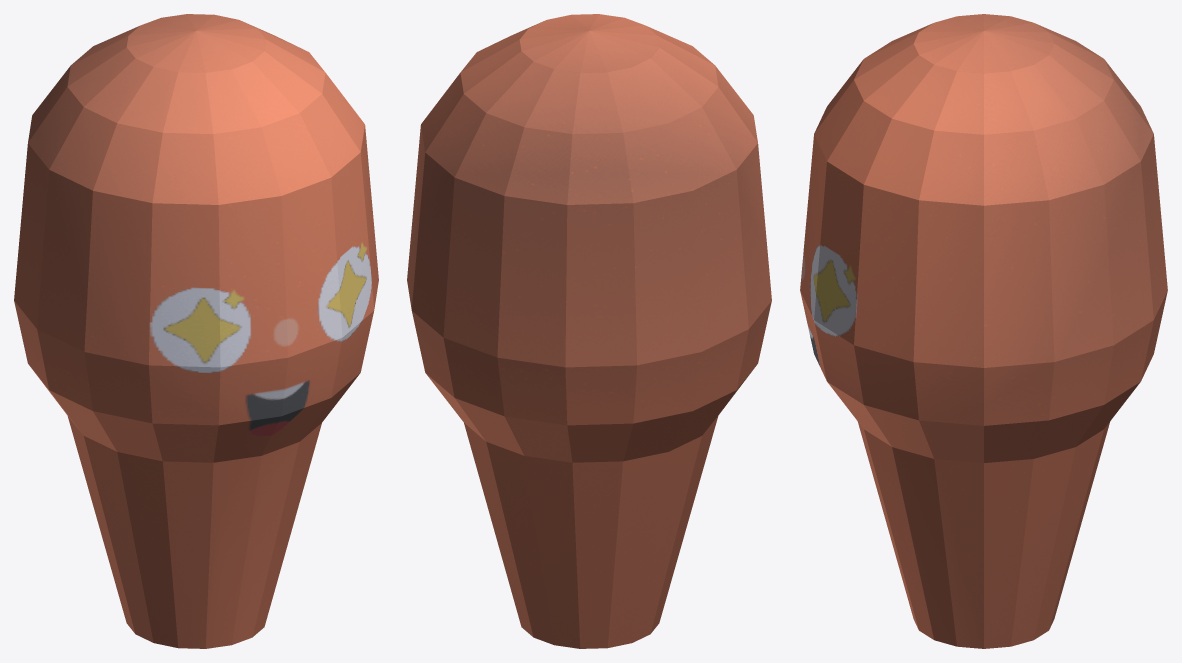
Rendered from head0.glb.
3 views of the same model, side by side, from view 1: azimuth 30°, elevation 25°; view 2: azimuth 150°, elevation 25°; view 3: azimuth 270°, elevation 25° (orthographic).
Visible parts, largest first — view 1: head1_1; view 2: head1_1; view 3: head1_1.
Part boxes in pixels (<box>): head1_1: <box>14,14,378,648</box>; head1_1: <box>407,14,771,648</box>; head1_1: <box>800,14,1167,648</box>.
Size of the model in its own units: 1.62 by 2.86 by 1.62.
Materials: 1 (1 with a texture image).
